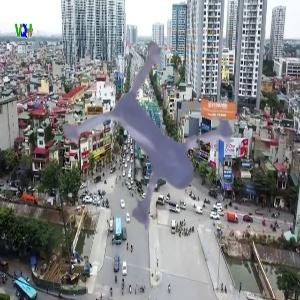drone: (31, 23, 288, 280)
